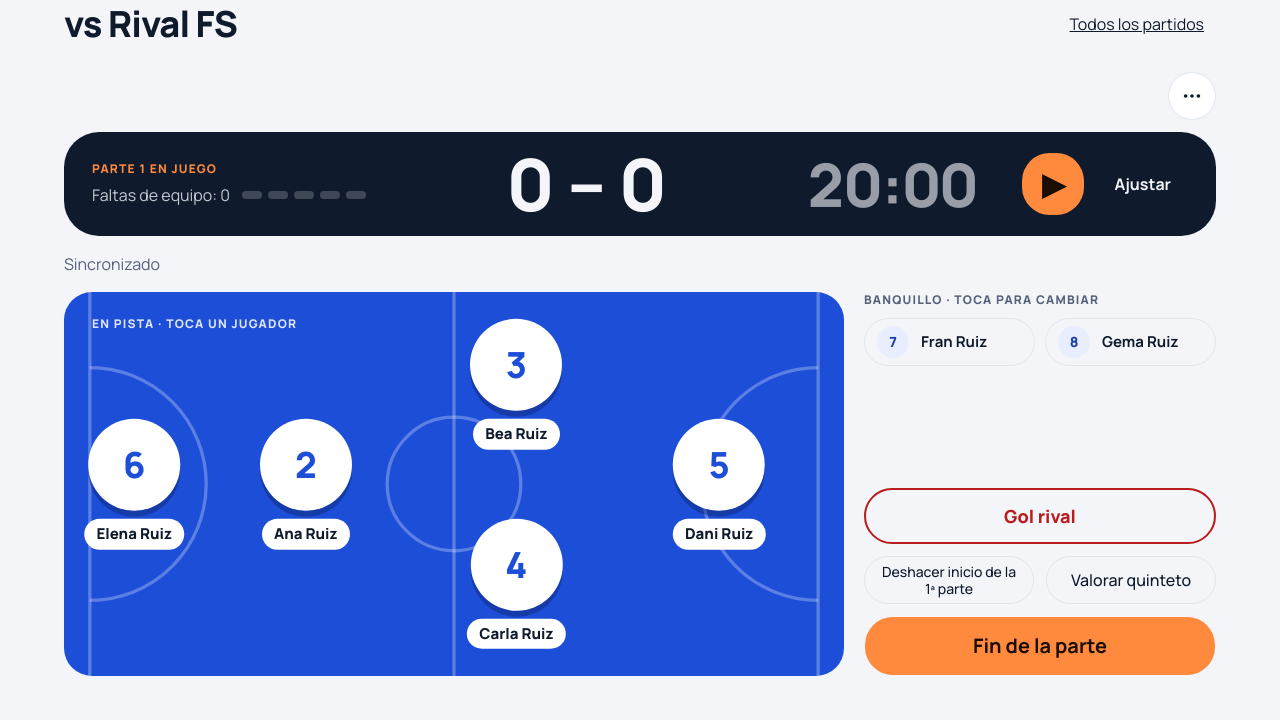
Test case: fin de parte y parte 2 › con el reloj en 00:00, el fin de la parte anota la parte entera y pasa al descanso
Click the button with aria-label "Ajustar el reloj". click: point(1143, 184)
box: x1=1098 y1=152 x2=1188 y2=216
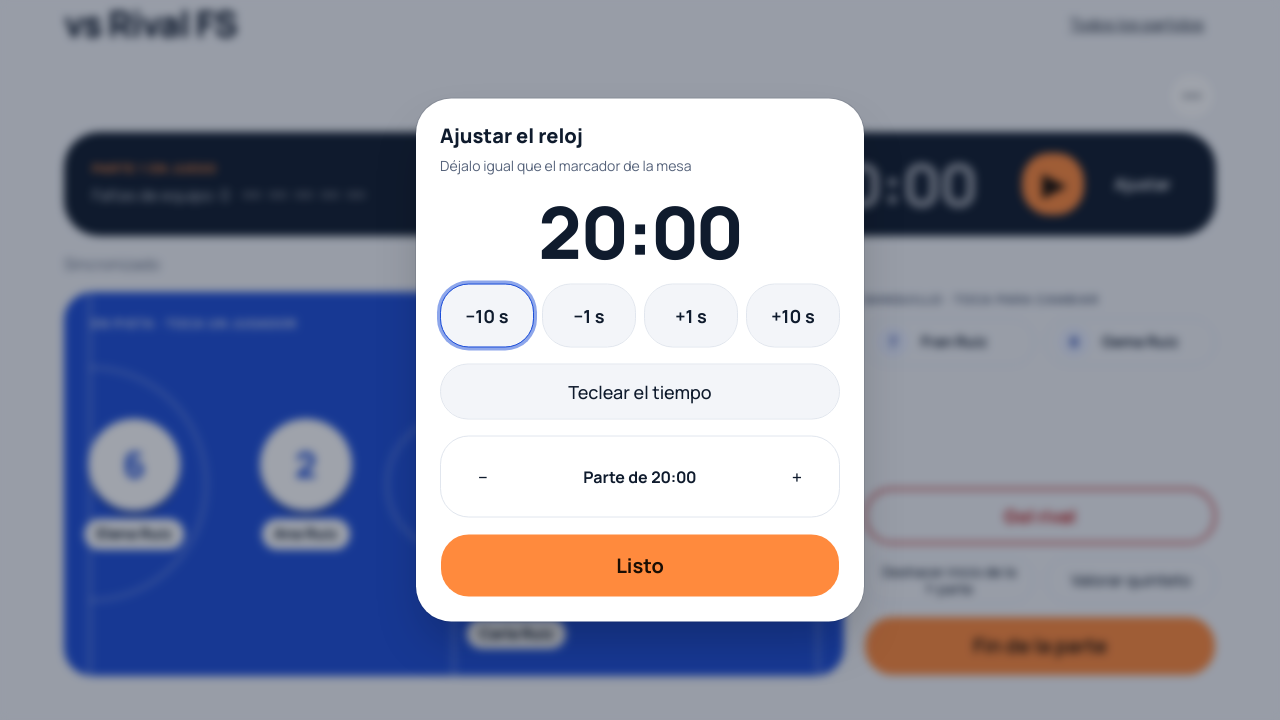
Click the button "Teclear el tiempo". click: point(640, 392)
box: x1=440 y1=364 x2=840 y2=420
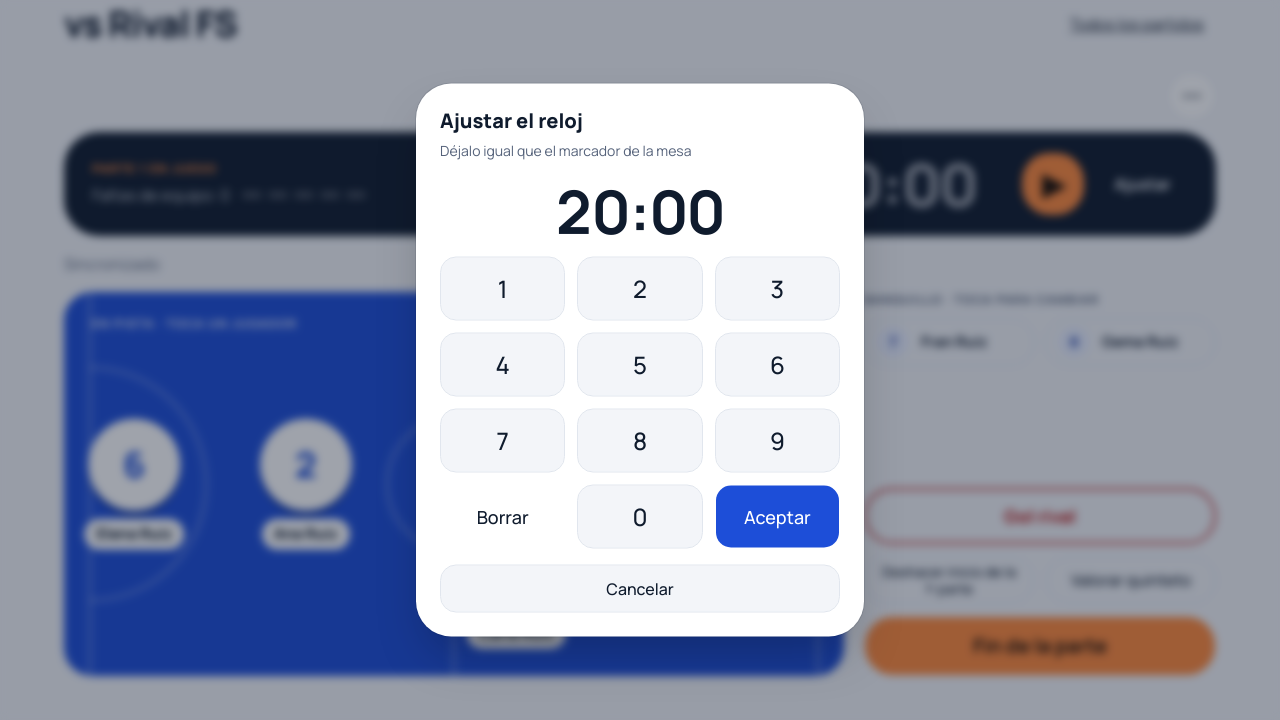
Click the button "0". click: point(640, 516)
box: x1=577 y1=484 x2=703 y2=548
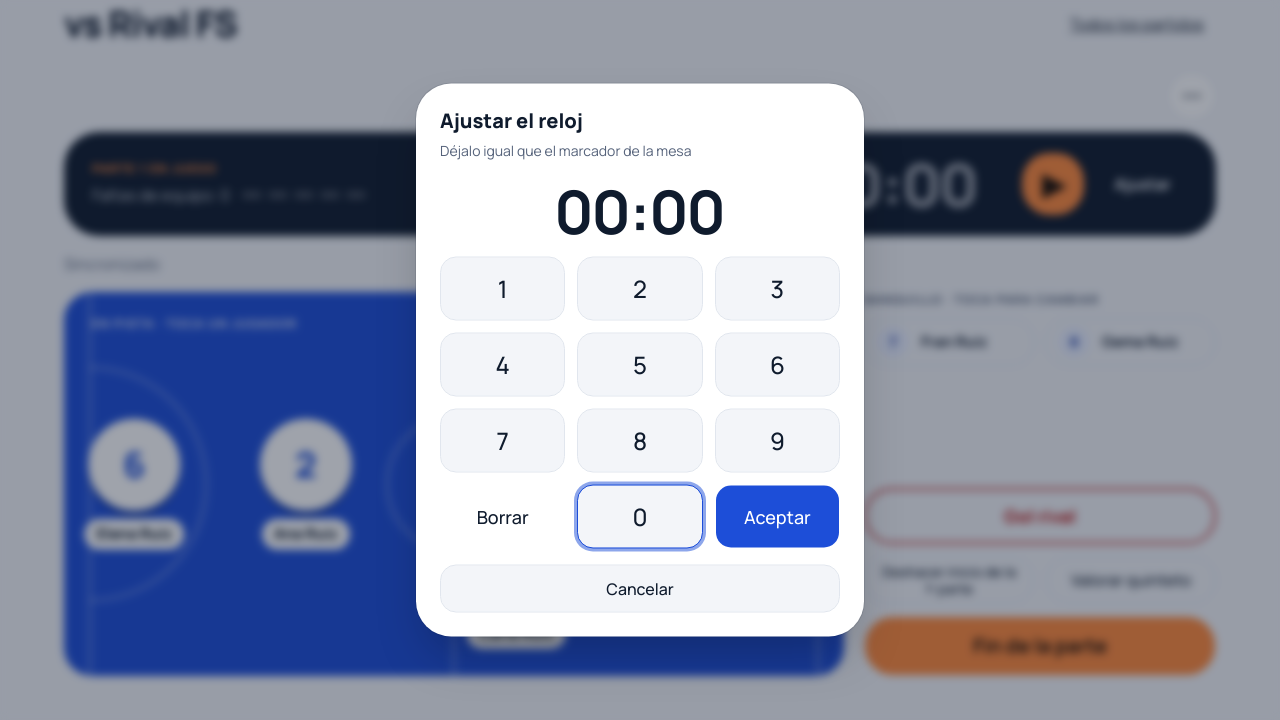
Click the button "Aceptar". click: point(777, 516)
box: x1=715 y1=484 x2=840 y2=548
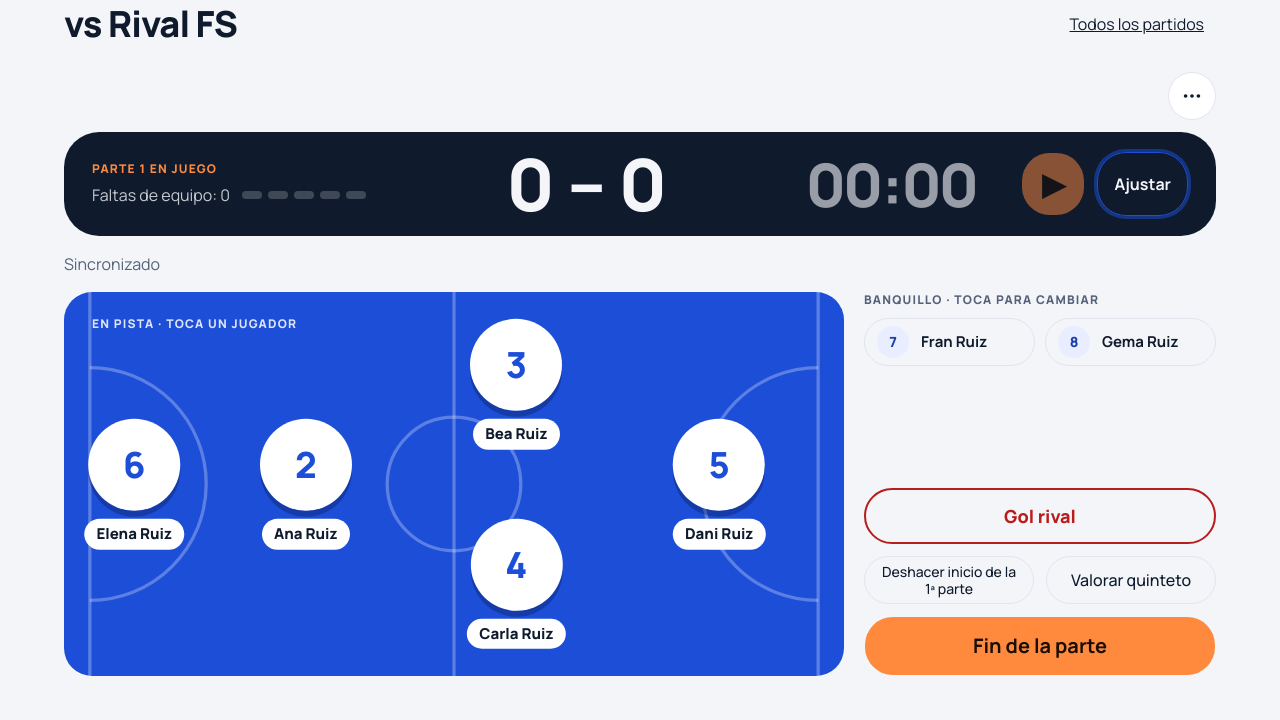
Click the button "Fin de la parte". click: point(1040, 646)
box: x1=864 y1=616 x2=1216 y2=676
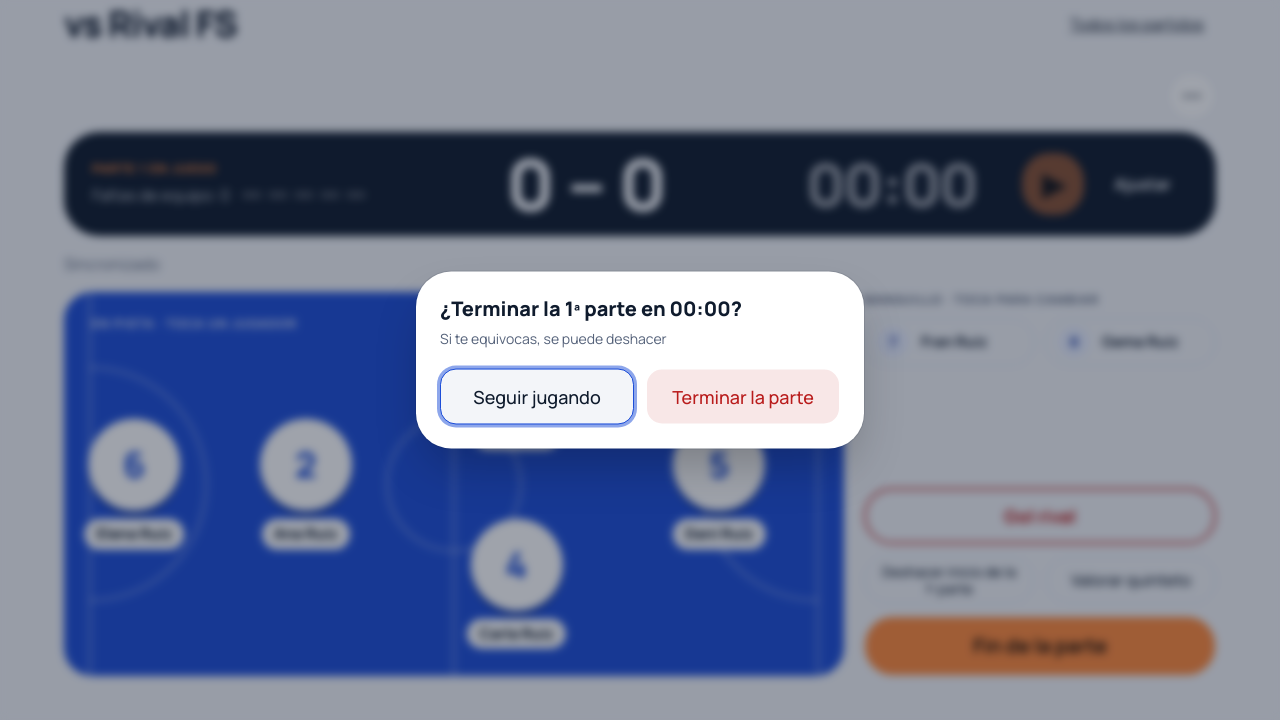
Click the button "Terminar la parte". click: point(743, 396)
box: x1=646 y1=368 x2=840 y2=424
(page scrolled)
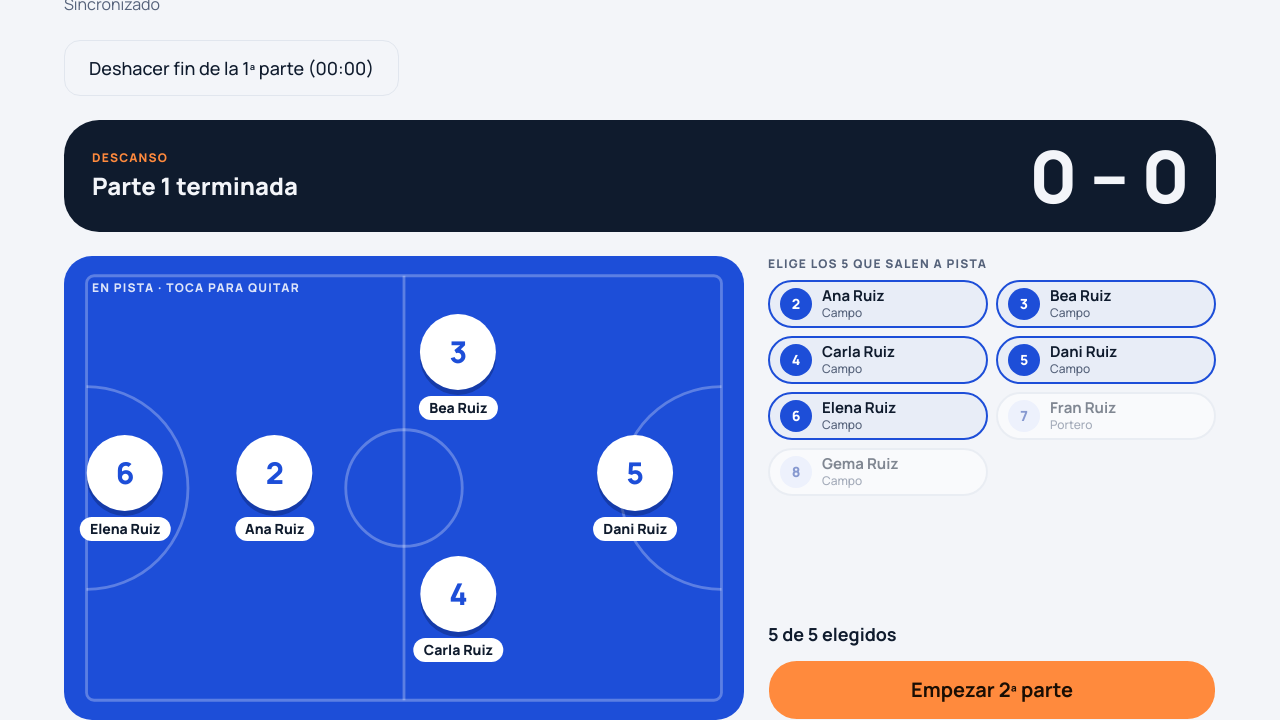
Expected: the heading "Parte 1 terminada" is shown, x1=92 y1=170 x2=298 y2=202
Expected: the button "Empezar 2ª parte" is shown, x1=768 y1=660 x2=1216 y2=719
